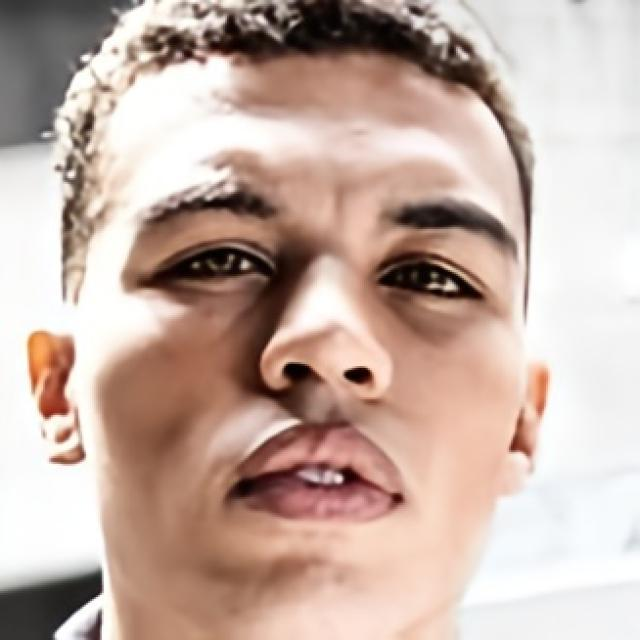neutral: (86, 27, 525, 618)
